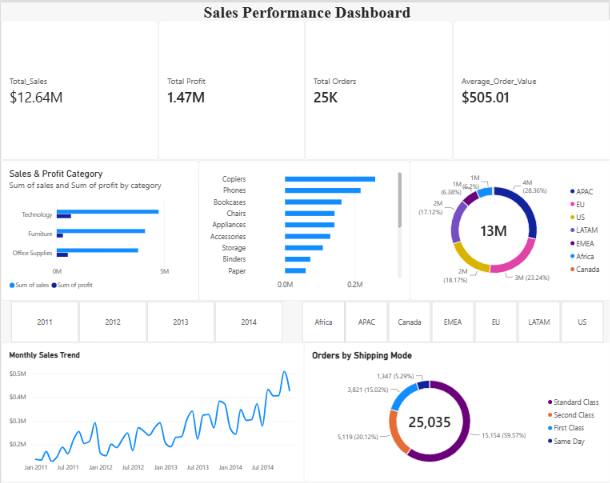

The page's visual inventory and layout, read from the dashboard file:
{"tool":"powerbi","page":{"name":"Sales Oveview","canvas":[1920,1080],"ordinal":0},"visuals":[{"type":"cardVisual","fields":{"Data":["Sales_Data_Cleaned.Total_Sales"]},"box":[0,35.9,315.6,279.7],"z":0},{"type":"cardVisual","fields":{"Data":["Sum(Sales_Data_Cleaned.profit)"]},"box":[315.6,35.9,292.2,279.7],"z":1000},{"type":"cardVisual","fields":{"Data":["Sales_Data_Cleaned.Total Orders"]},"box":[607.8,35.9,295.3,279.7],"z":2000},{"type":"clusteredBarChart","title":"Sales & Profit Category","fields":{"Category":["Sales_Data_Cleaned.category"],"Y":["Sum(Sales_Data_Cleaned.sales)","Sum(Sales_Data_Cleaned.profit)"]},"box":[0,315.7,395.7,280],"z":3000},{"type":"clusteredBarChart","title":"Profit by Sub-Category","fields":{"Category":["Sales_Data_Cleaned.sub_category"],"Y":["Sum(Sales_Data_Cleaned.profit)"]},"box":[395.7,315.7,422.9,280],"z":4000},{"type":"donutChart","title":"Sales Contribution by Market","fields":{"Category":["Sales_Data_Cleaned.market"],"Y":["Sum(Sales_Data_Cleaned.sales)"]},"box":[818.6,315.7,405.7,280],"z":5000},{"type":"slicer","fields":{"Values":["Sales_Data_Cleaned.year"]},"box":[0,596,582,86],"z":6000},{"type":"slicer","fields":{"Values":["Sales_Data_Cleaned.market"]},"box":[582,596,642,86],"z":7000},{"type":"textbox","box":[9.4,0,1214.1,35.9],"z":8000},{"type":"cardVisual","fields":{"Data":["Sales_Data_Cleaned.Average_Order_Value"]},"box":[903.1,35.9,320.3,279.7],"z":9000},{"type":"lineChart","title":"Monthly Sales Trend","fields":{"Category":["Sales_Data_Cleaned.order_date.Variation.Date Hierarchy.Year","Sales_Data_Cleaned.order_date.Variation.Date Hierarchy.Month"],"Y":["Sales_Data_Cleaned.Total_Sales"]},"box":[0,680,616.7,280],"z":10000},{"type":"donutChart","title":"Orders by Shipping Mode","fields":{"Category":["Sales_Data_Cleaned.ship_mode"],"Y":["Sales_Data_Cleaned.Total Orders"]},"box":[606.7,680,616.7,280],"z":11000}]}

Visuals, with their boxes on the page's 1920x1080 design canvas (x1, y1, x2, y2). These are canvas units, not pixel positions in the 610x483 screenshot, which may show the page scaled, cropped or inside an application window:
cardVisual - Sales_Data_Cleaned.Total_Sales: box(0, 36, 316, 316)
cardVisual - Sum(Sales_Data_Cleaned.profit): box(316, 36, 608, 316)
cardVisual - Sales_Data_Cleaned.Total Orders: box(608, 36, 903, 316)
"Sales & Profit Category" clusteredBarChart: box(0, 316, 396, 596)
"Profit by Sub-Category" clusteredBarChart: box(396, 316, 819, 596)
"Sales Contribution by Market" donutChart: box(819, 316, 1224, 596)
slicer - Sales_Data_Cleaned.year: box(0, 596, 582, 682)
slicer - Sales_Data_Cleaned.market: box(582, 596, 1224, 682)
textbox: box(9, 0, 1224, 36)
cardVisual - Sales_Data_Cleaned.Average_Order_Value: box(903, 36, 1223, 316)
"Monthly Sales Trend" lineChart: box(0, 680, 617, 960)
"Orders by Shipping Mode" donutChart: box(607, 680, 1223, 960)
